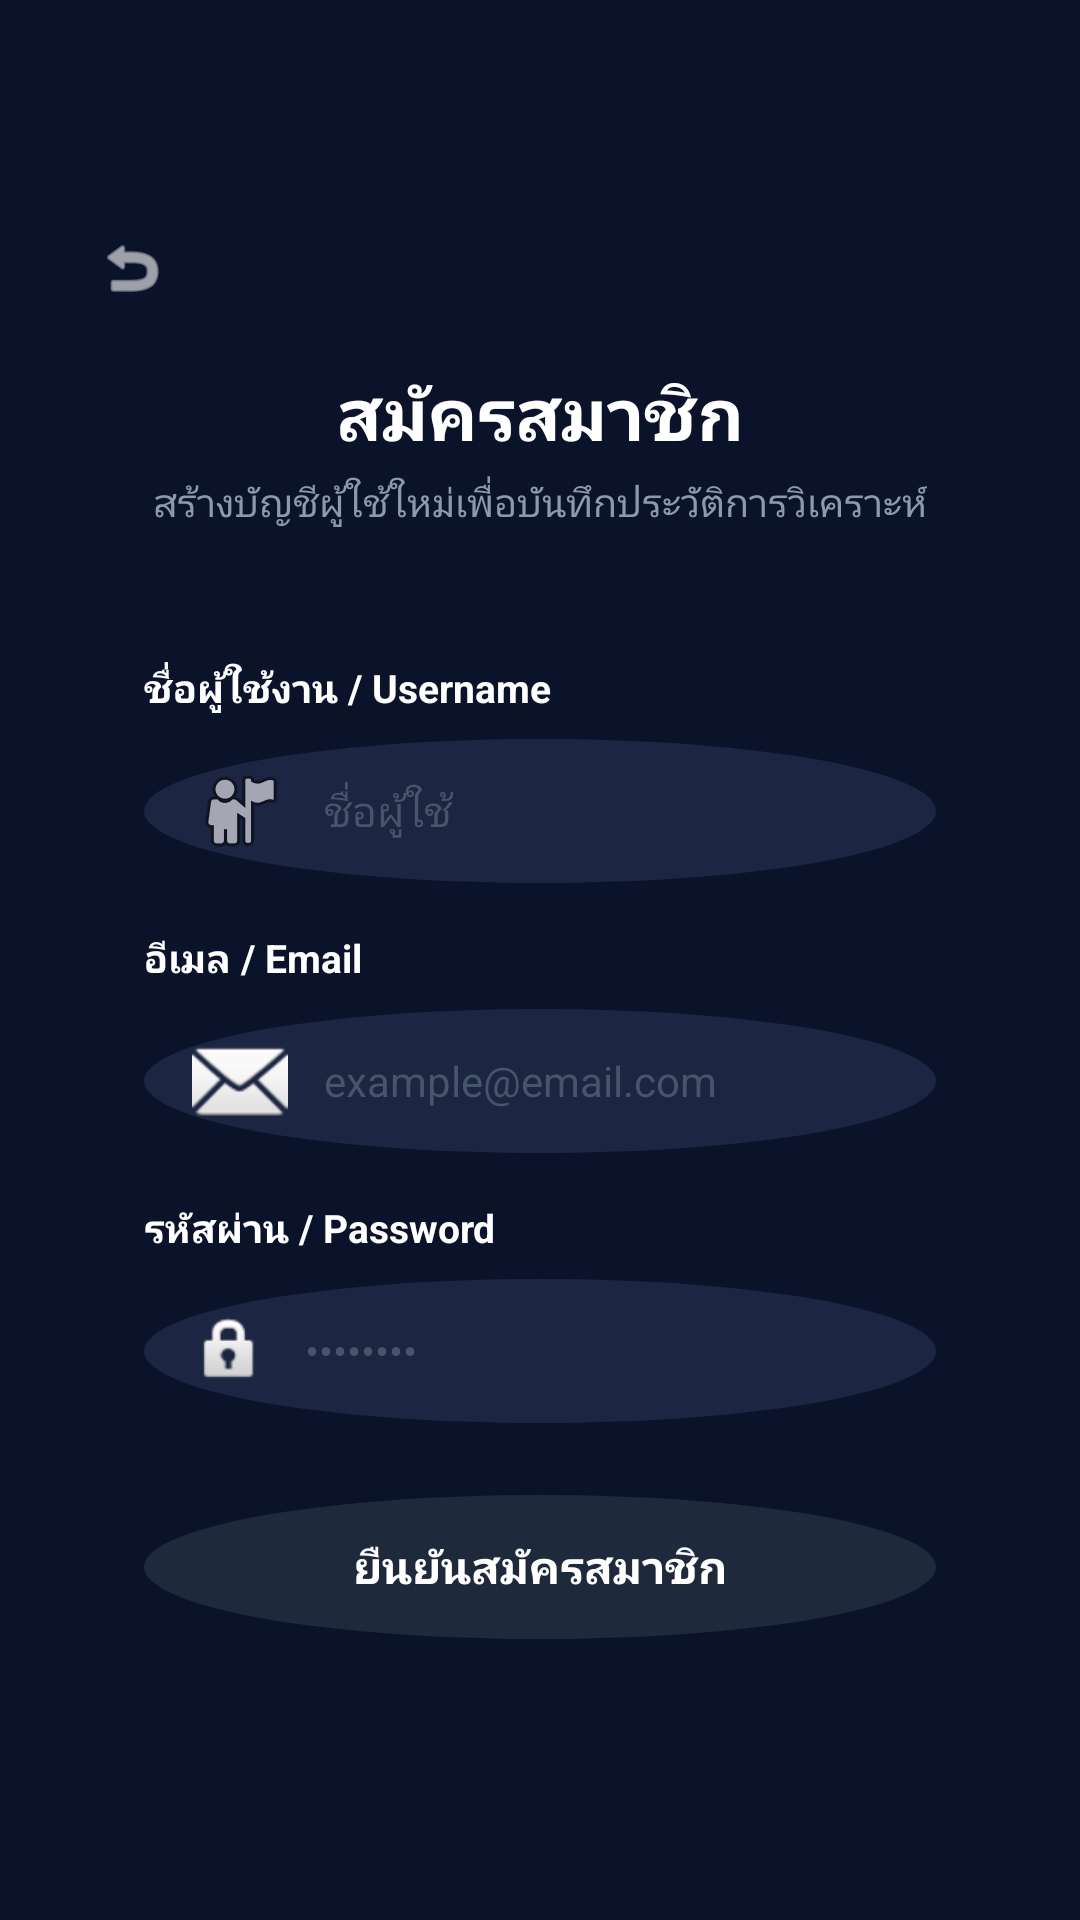

Named icons in this screenshot (1080 × 1920) and their bounding boxes, (x1, y1, x2, y2):
revert: (107, 245, 159, 292)
